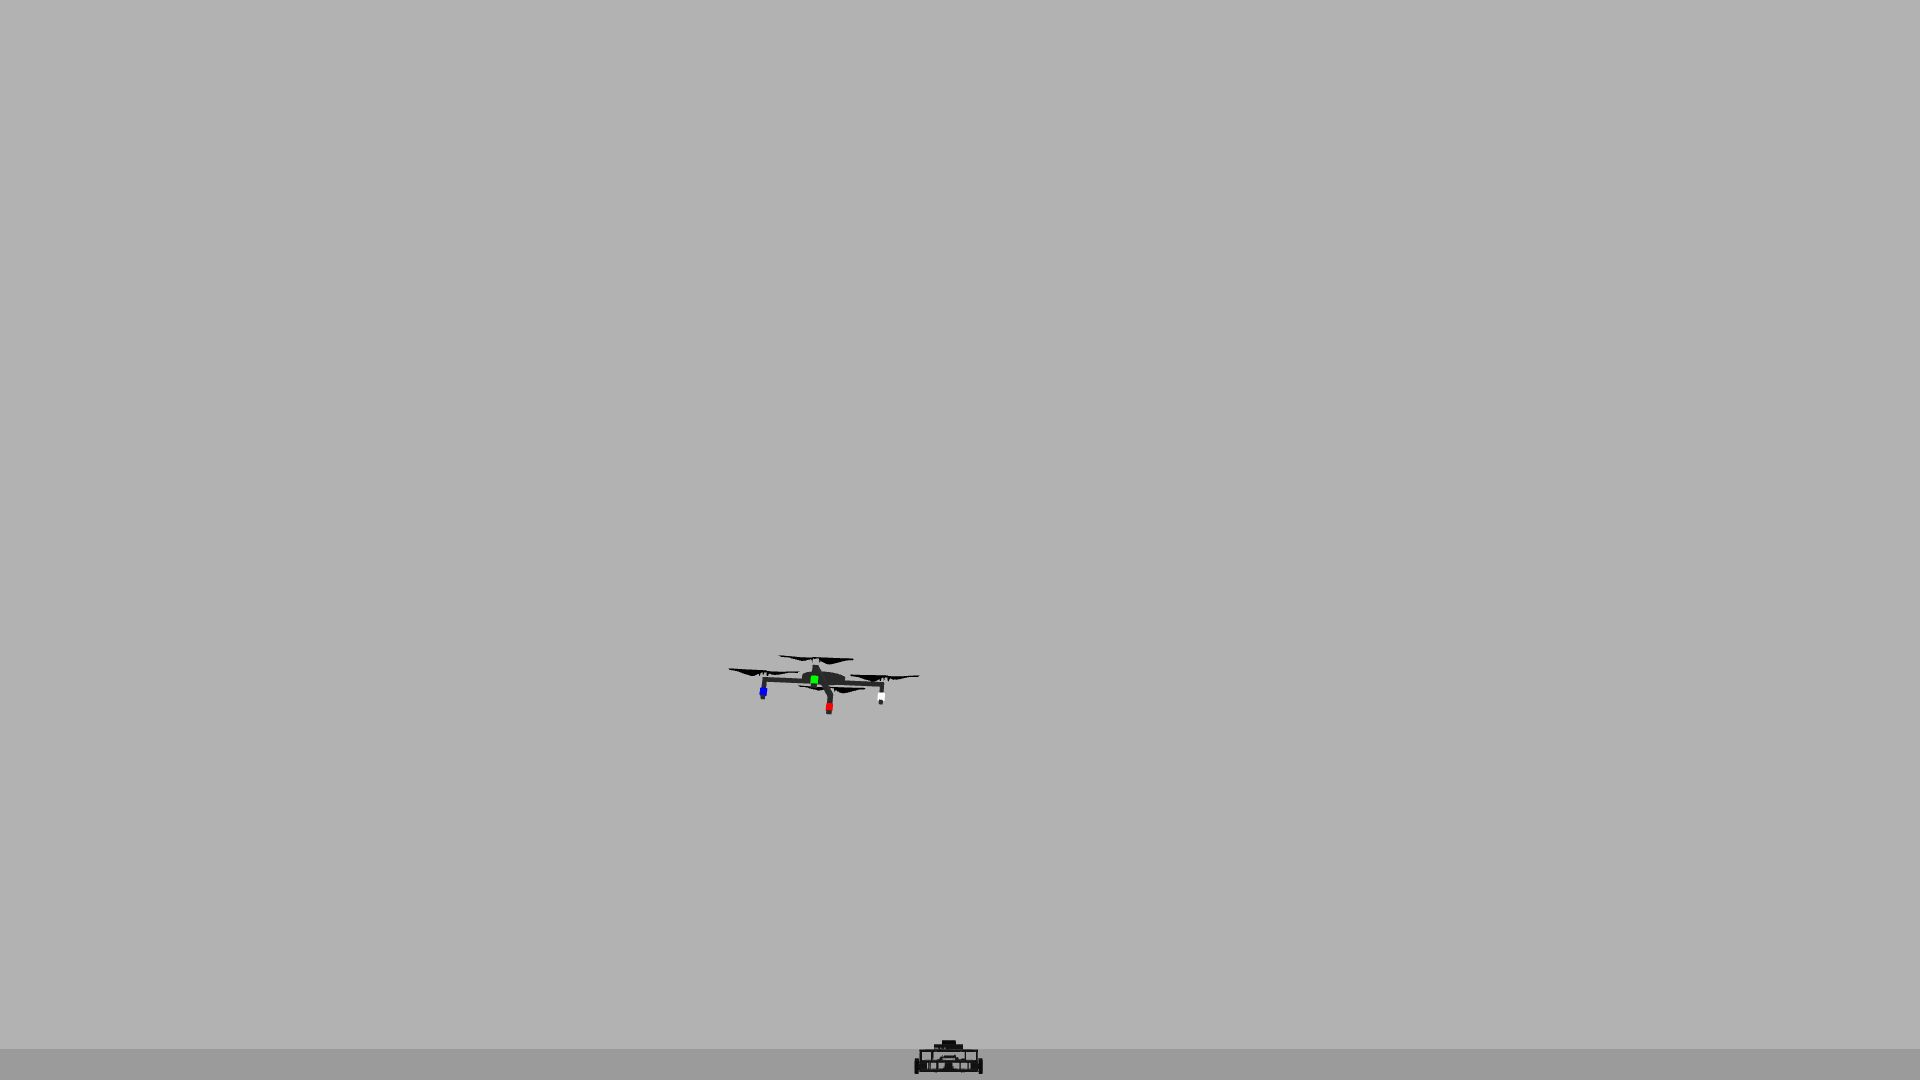drone: (728, 629, 922, 725)
